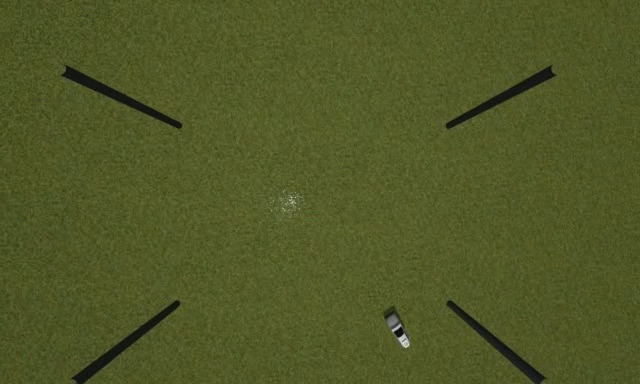Car: (384, 312, 411, 348)
